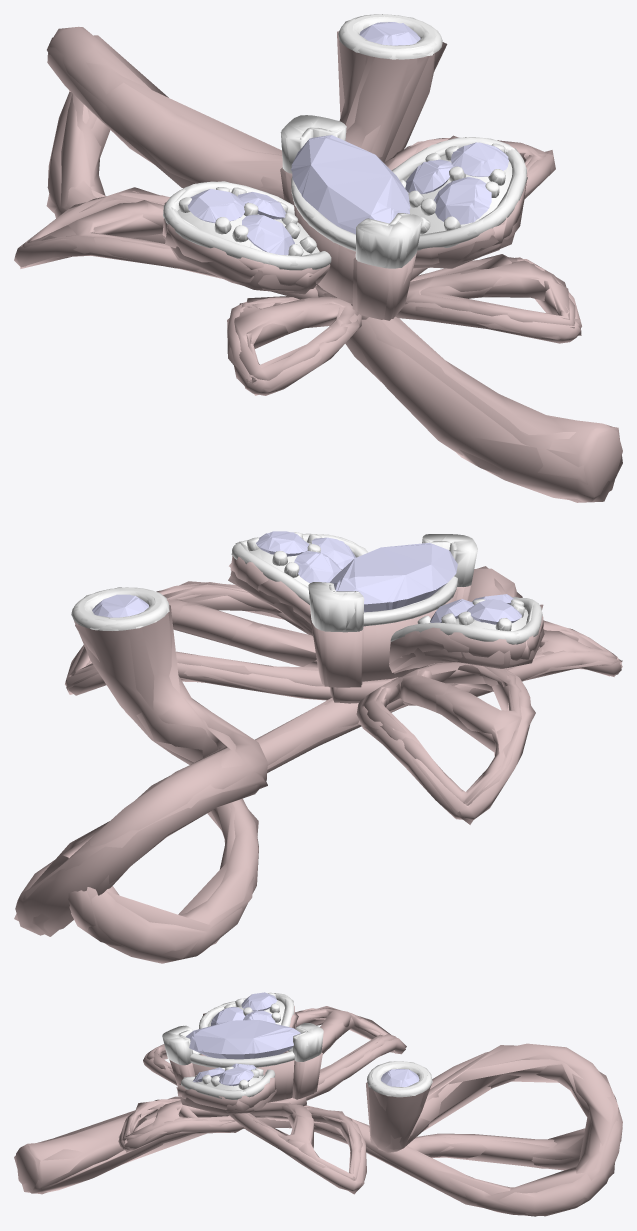
Rendered from DCP-D000683166.glb.
3 renders of one model, top to bottom at view 1: azimuth 30°, elevation 25°; view 2: azimuth 150°, elevation 25°; view 3: azimuth 270°, elevation 25°, orthographic. The views are drawn at different scales.
Parts seen in each view (by area): view 1: highPolyMesh, lowPolyMesh; view 2: highPolyMesh, lowPolyMesh; view 3: highPolyMesh, lowPolyMesh.
Part boxes in pixels (x1,y1,x2,y2): highPolyMesh: (14, 14, 622, 502); lowPolyMesh: (20, 14, 622, 502); highPolyMesh: (15, 531, 622, 963); lowPolyMesh: (14, 532, 622, 959); highPolyMesh: (16, 992, 622, 1216); lowPolyMesh: (14, 992, 618, 1216).
Bounding box in the file's own units: 0.0149 × 0.00714 × 0.0257.
